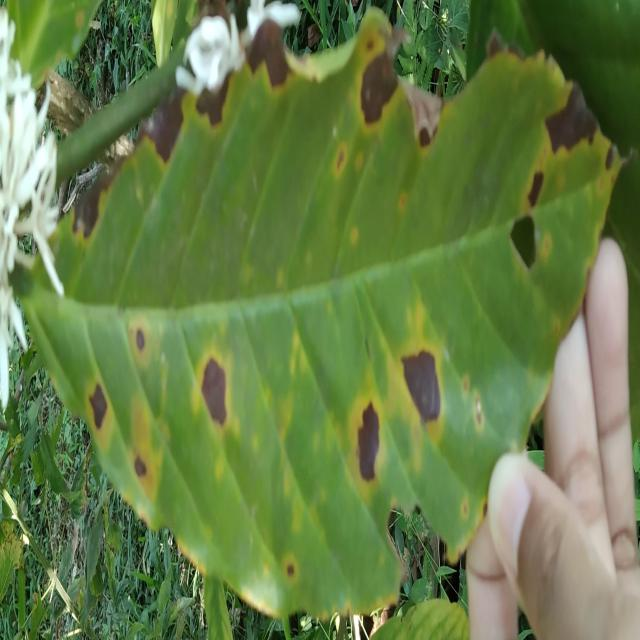Enfermedad-Mancha-de-hierro: (10, 9, 623, 623)
